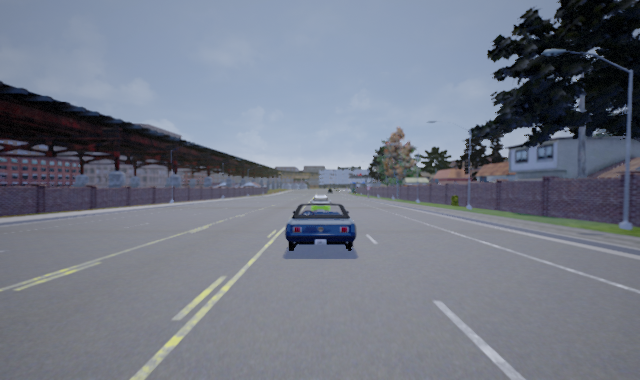vehicle: (283, 199, 357, 256), (309, 194, 332, 215)
